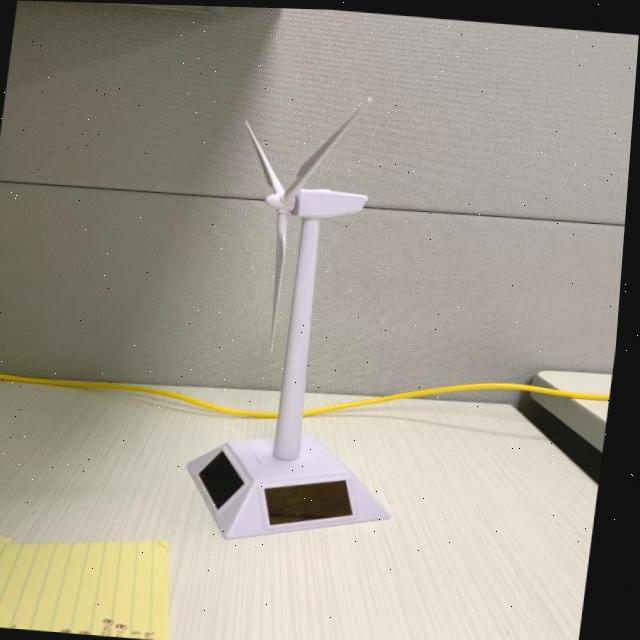solid-blade: (286, 95, 372, 200), (246, 118, 286, 192), (276, 210, 291, 351)
